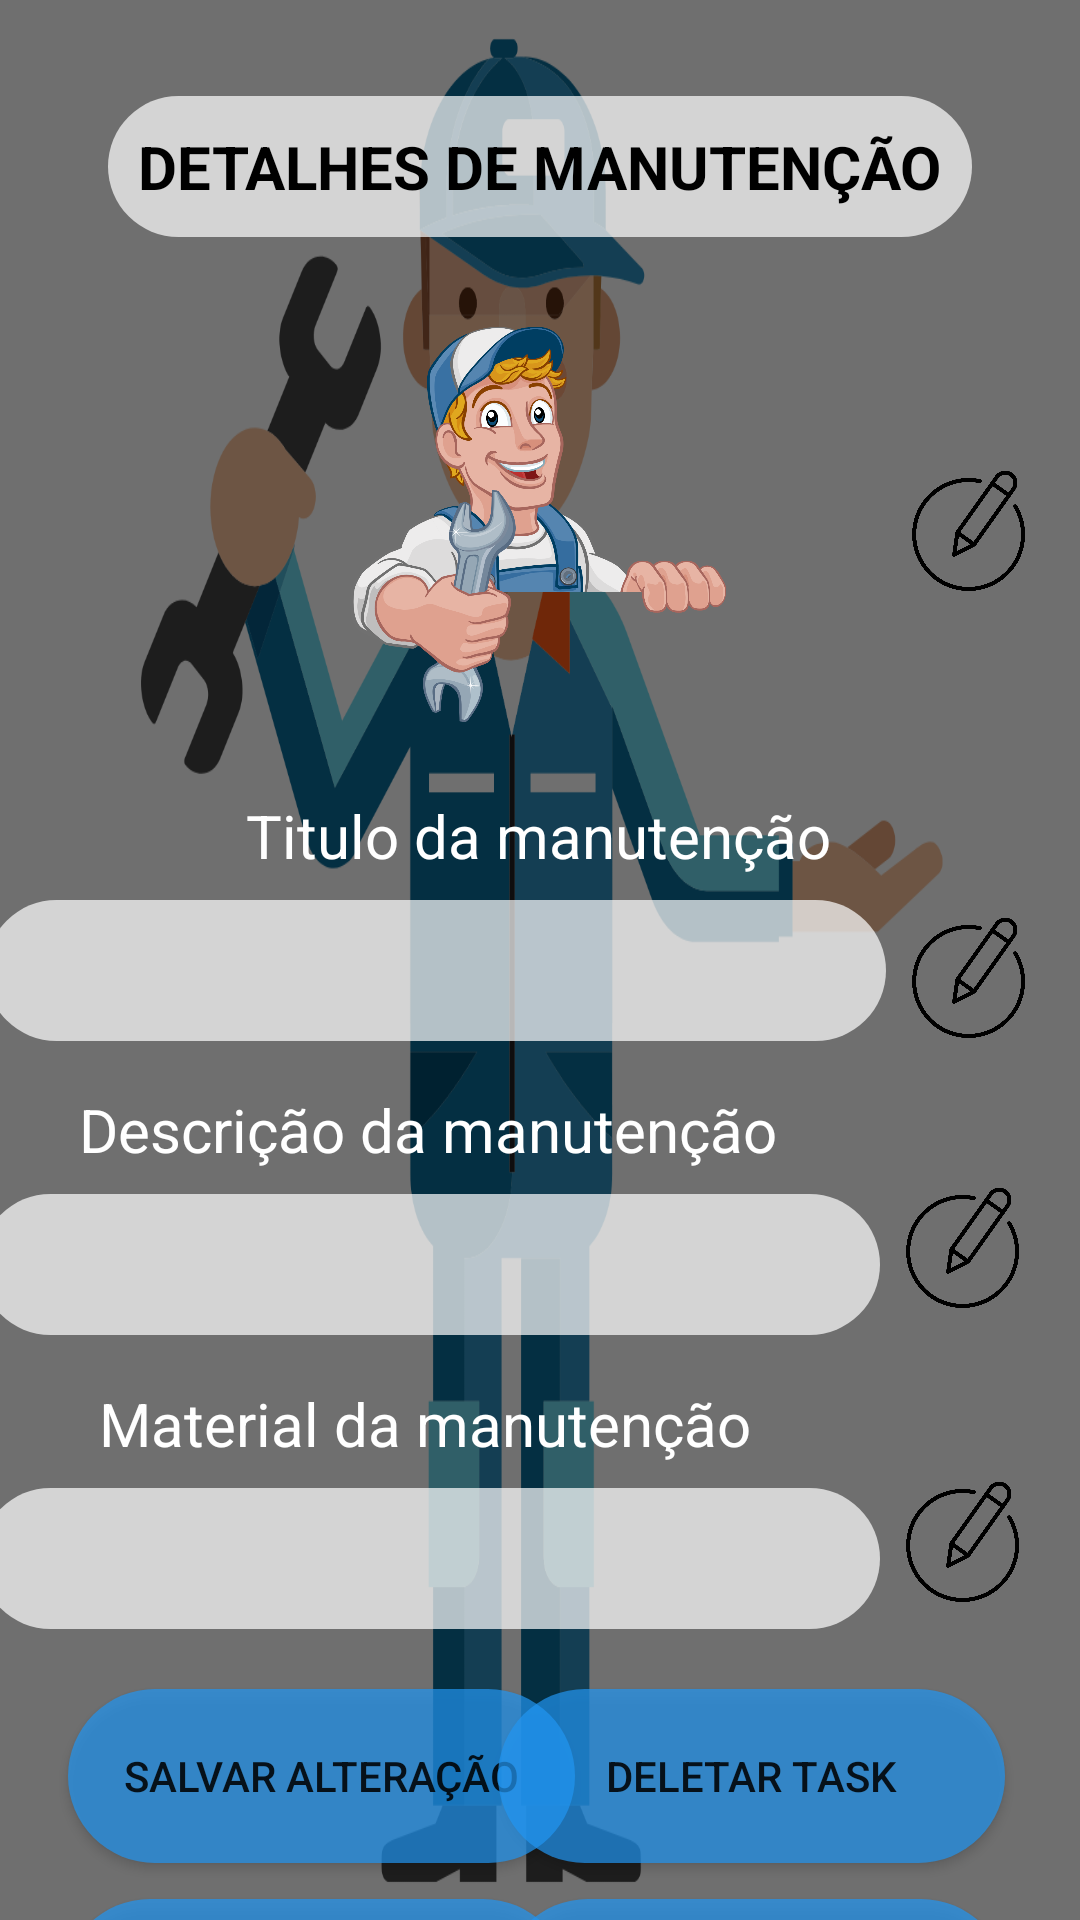

Point at icon controls on the screen. Image size 1080px×1920px, points as (x=x, y=y).
edit: (x=968, y=531), (x=968, y=978), (x=962, y=1248), (x=962, y=1542)
